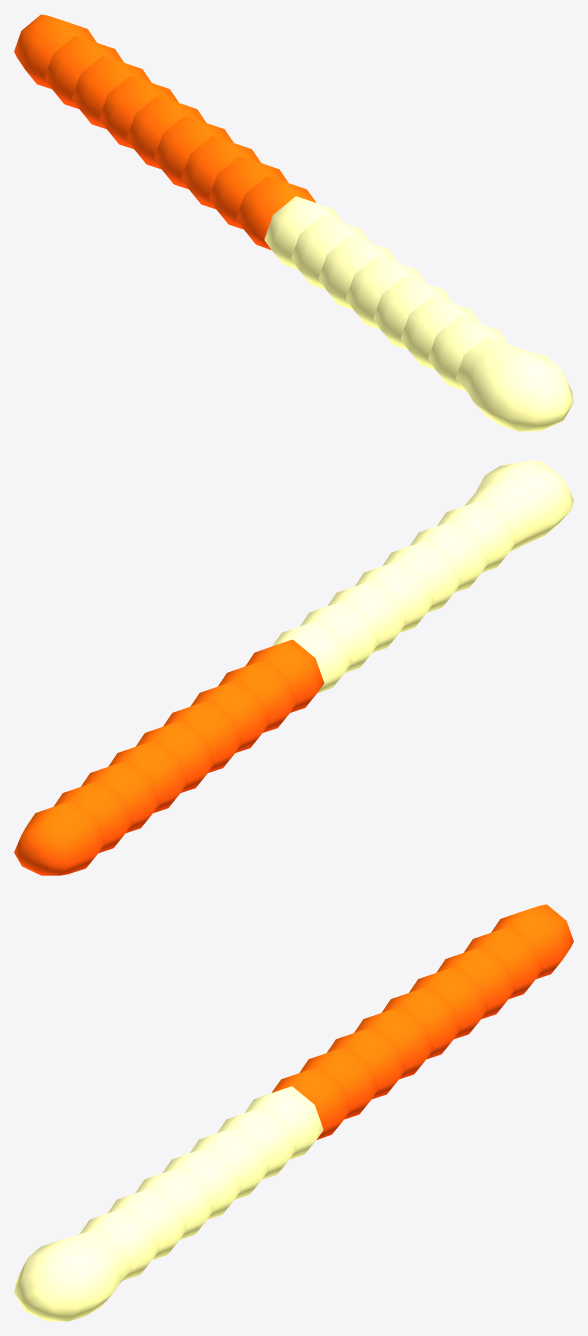
Rendered from MarmaladeSnake_03.glb.
The picture shows the model from 3 angles, top to bottom: view 1: azimuth 30°, elevation 25°; view 2: azimuth 150°, elevation 25°; view 3: azimuth 330°, elevation 25°; orthographic projection.
Visible parts, largest first — view 1: MarmaladeSnake_03; view 2: MarmaladeSnake_03; view 3: MarmaladeSnake_03.
Boxes of the visible parts, x1,y1,x2,y2 form: MarmaladeSnake_03: (14,14,573,431); MarmaladeSnake_03: (14,460,573,875); MarmaladeSnake_03: (14,904,573,1321).
Bounding box in the file's own units: 0.8882 × 0.6578 × 9.35.
1 material, 1 textured.
